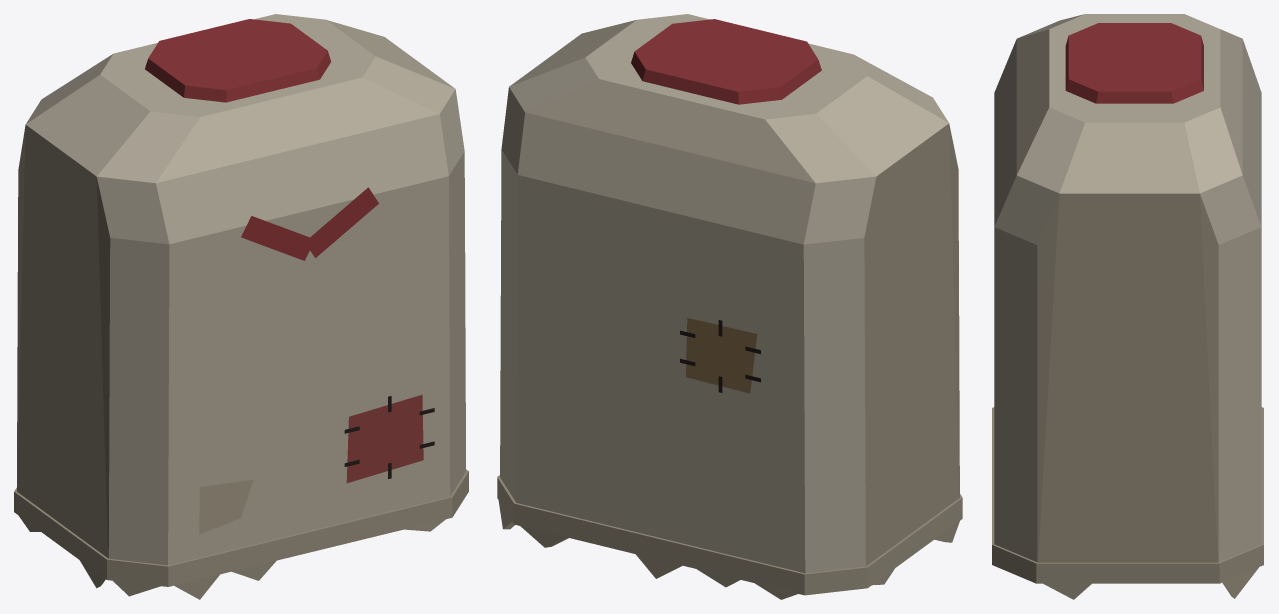
The model's file is tl_wear_tshirt_v01.glb.
3 views of the same model, side by side, from view 1: azimuth 30°, elevation 25°; view 2: azimuth 150°, elevation 25°; view 3: azimuth 270°, elevation 25° (orthographic). The views are drawn at different scales.
Visible parts, largest first — view 1: fit_spine; view 2: fit_spine; view 3: fit_spine.
Boxes of the visible parts, box(x1,y1,x2,y2) form: fit_spine: box(14, 14, 468, 599); fit_spine: box(497, 14, 962, 599); fit_spine: box(992, 14, 1263, 599).
Size of the model in its own units: 0.482 by 0.5939 by 0.32.
